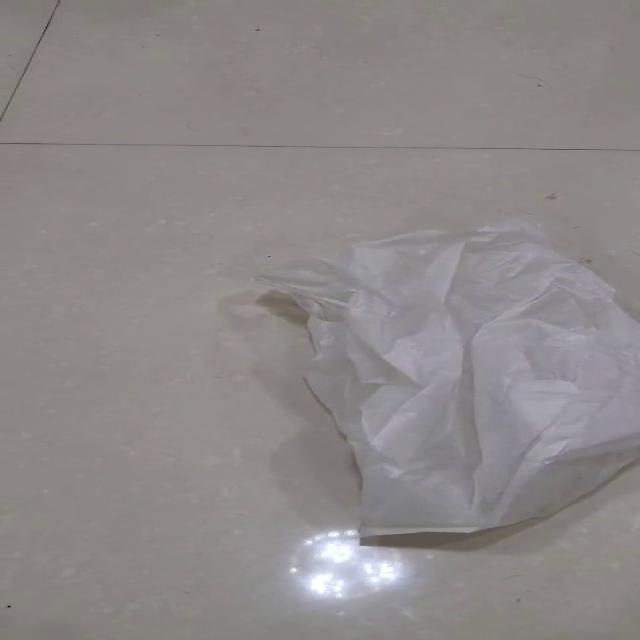plastic: (250, 215, 639, 544)
